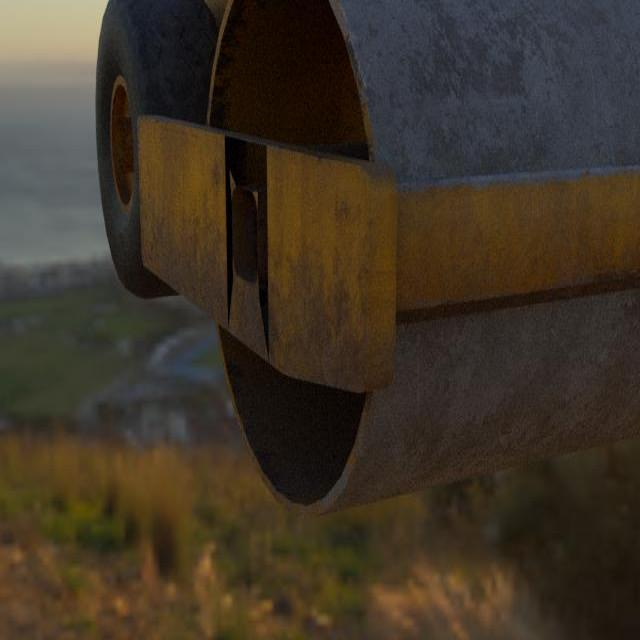Roller: (95, 0, 640, 520)
